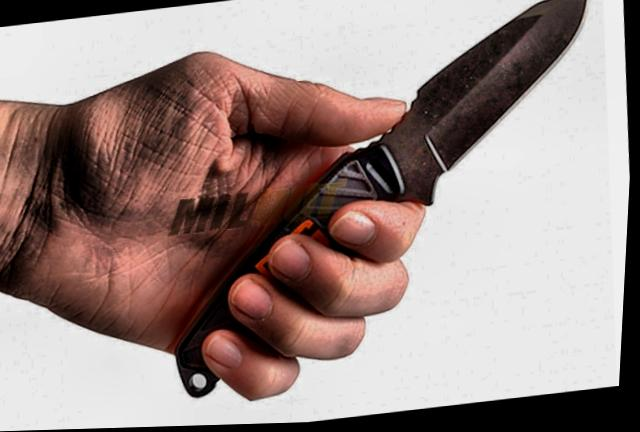knife: (139, 0, 625, 416)
